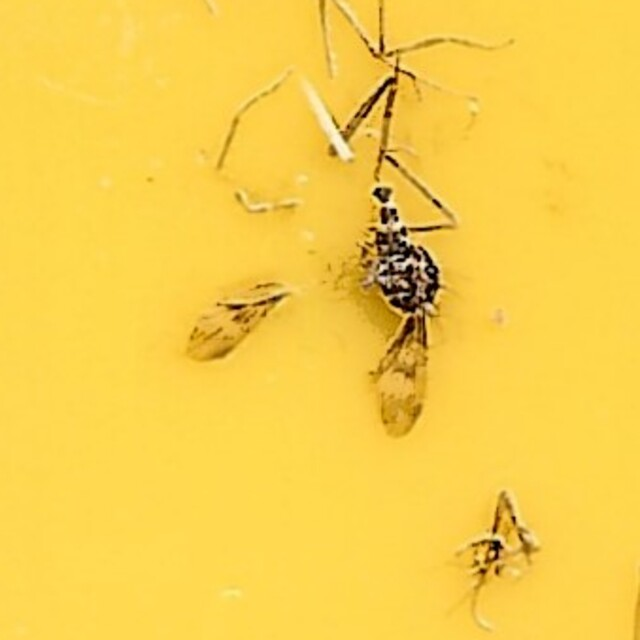Nematocera: (189, 190, 451, 450)
